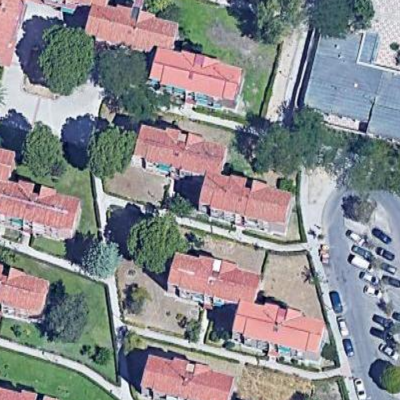tree: (99, 40, 167, 119), (246, 104, 326, 171), (38, 23, 94, 94), (341, 129, 400, 194), (125, 211, 189, 268), (19, 121, 72, 183), (84, 124, 141, 179), (41, 287, 91, 346), (308, 2, 378, 40), (236, 1, 304, 37), (80, 235, 127, 283), (341, 190, 379, 227), (375, 360, 400, 397), (124, 280, 151, 311)
